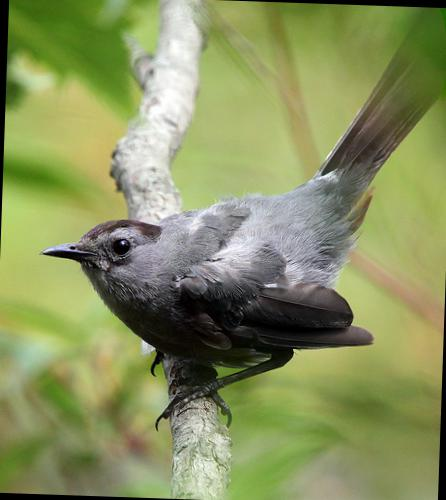bird: (20, 201, 398, 451)
